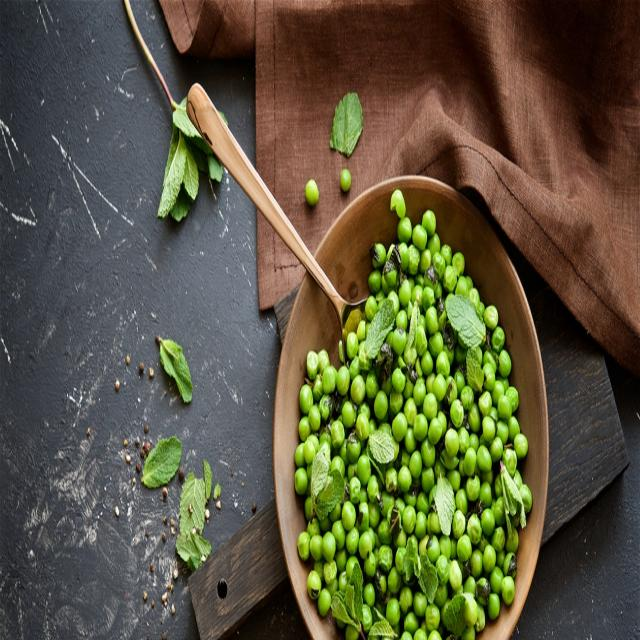pea: (303, 376, 520, 613)
